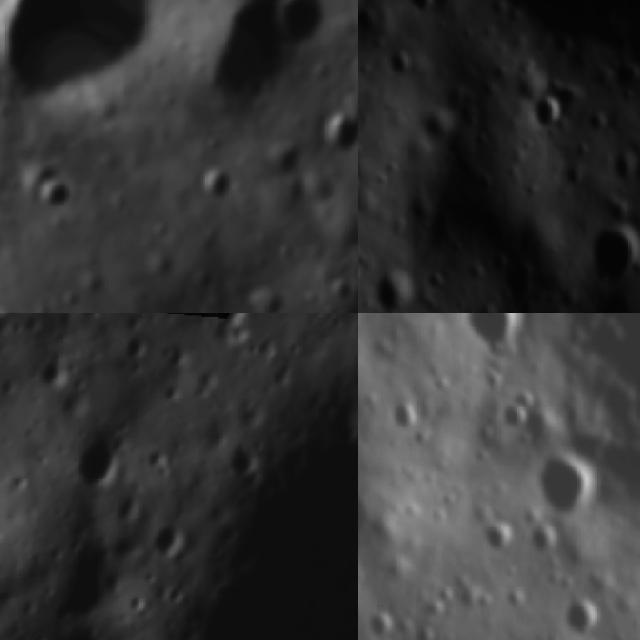crater: (183, 409, 358, 640), (0, 0, 179, 124), (450, 0, 640, 79), (197, 0, 302, 109), (520, 450, 600, 516), (577, 216, 640, 291), (67, 429, 127, 500), (461, 313, 537, 364), (358, 455, 393, 552), (267, 0, 336, 48), (410, 97, 464, 154), (367, 262, 419, 313), (31, 172, 86, 218), (528, 84, 573, 139), (320, 101, 358, 164), (102, 484, 148, 534), (554, 596, 605, 640), (193, 162, 236, 214), (262, 134, 304, 186), (151, 513, 192, 562), (239, 276, 290, 313), (380, 41, 418, 90), (476, 514, 512, 564), (55, 385, 97, 426), (223, 440, 260, 482), (205, 313, 254, 342), (42, 625, 136, 640), (188, 360, 222, 398), (38, 353, 70, 393), (116, 329, 150, 366), (388, 397, 422, 434), (495, 399, 530, 434), (156, 338, 190, 374), (142, 442, 176, 476), (362, 612, 402, 640), (162, 578, 192, 612), (403, 0, 443, 24), (500, 588, 533, 614), (330, 277, 358, 306), (118, 590, 144, 619), (407, 622, 441, 640), (346, 203, 358, 247), (17, 627, 53, 640), (286, 339, 302, 361)
